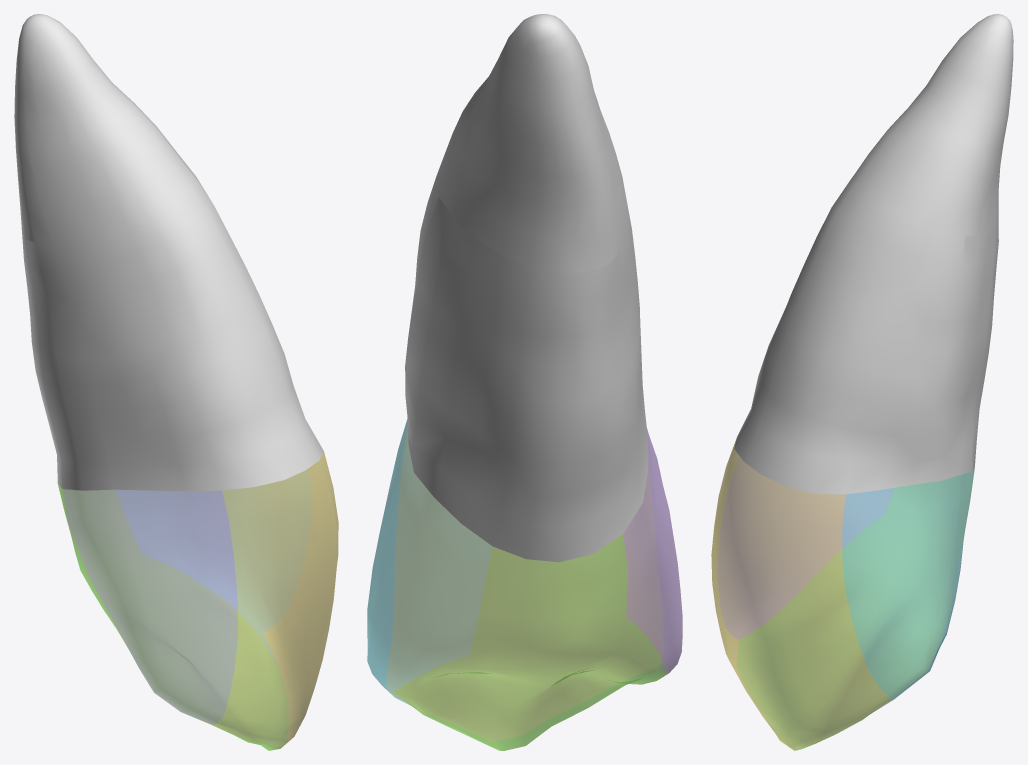
File: tooth_23_annotated.glb
3 views of the same model, side by side, from view 1: azimuth 30°, elevation 25°; view 2: azimuth 150°, elevation 25°; view 3: azimuth 270°, elevation 25° (orthographic). The views are drawn at different scales.
Visible parts, largest first — view 1: FDI_23; view 2: FDI_23; view 3: FDI_23.
Part boxes in pixels (x1,y1,x2,y2): FDI_23: (14,14,338,750); FDI_23: (367,14,682,750); FDI_23: (711,14,1013,750).
Bounding box in the file's own units: 0.00704 × 0.0204 × 0.00834.
